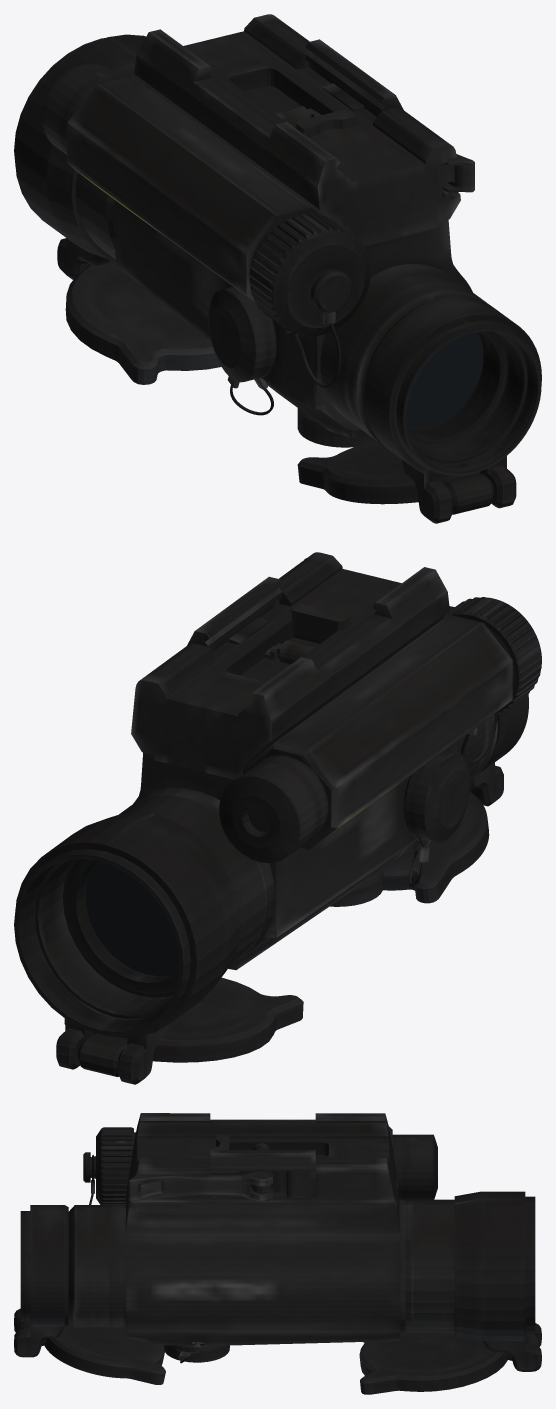
3 renders of one model, top to bottom at view 1: azimuth 30°, elevation 25°; view 2: azimuth 150°, elevation 25°; view 3: azimuth 270°, elevation 25°, orthographic. The views are drawn at different scales.
Visible parts, largest first — view 1: TW_5b30b0dc5acfc400153b7124_PZ_Import; view 2: TW_5b30b0dc5acfc400153b7124_PZ_Import; view 3: TW_5b30b0dc5acfc400153b7124_PZ_Import.
Boxes of the visible parts, <box> form: TW_5b30b0dc5acfc400153b7124_PZ_Import: <box>14,14,541,523</box>; TW_5b30b0dc5acfc400153b7124_PZ_Import: <box>14,552,541,1084</box>; TW_5b30b0dc5acfc400153b7124_PZ_Import: <box>14,1113,541,1394</box>.
Bounding box in the file's own units: 0.0297 × 0.083 × 0.0403.
1 material, 1 textured.
